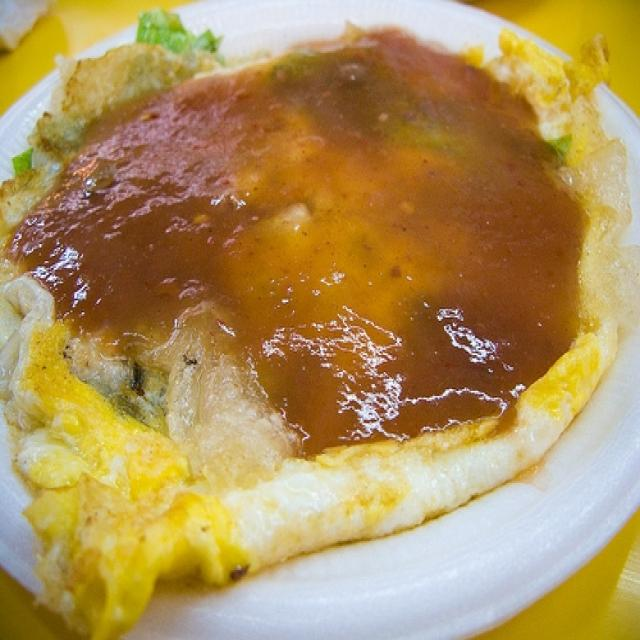熟制海鲜: (5, 10, 630, 621)
